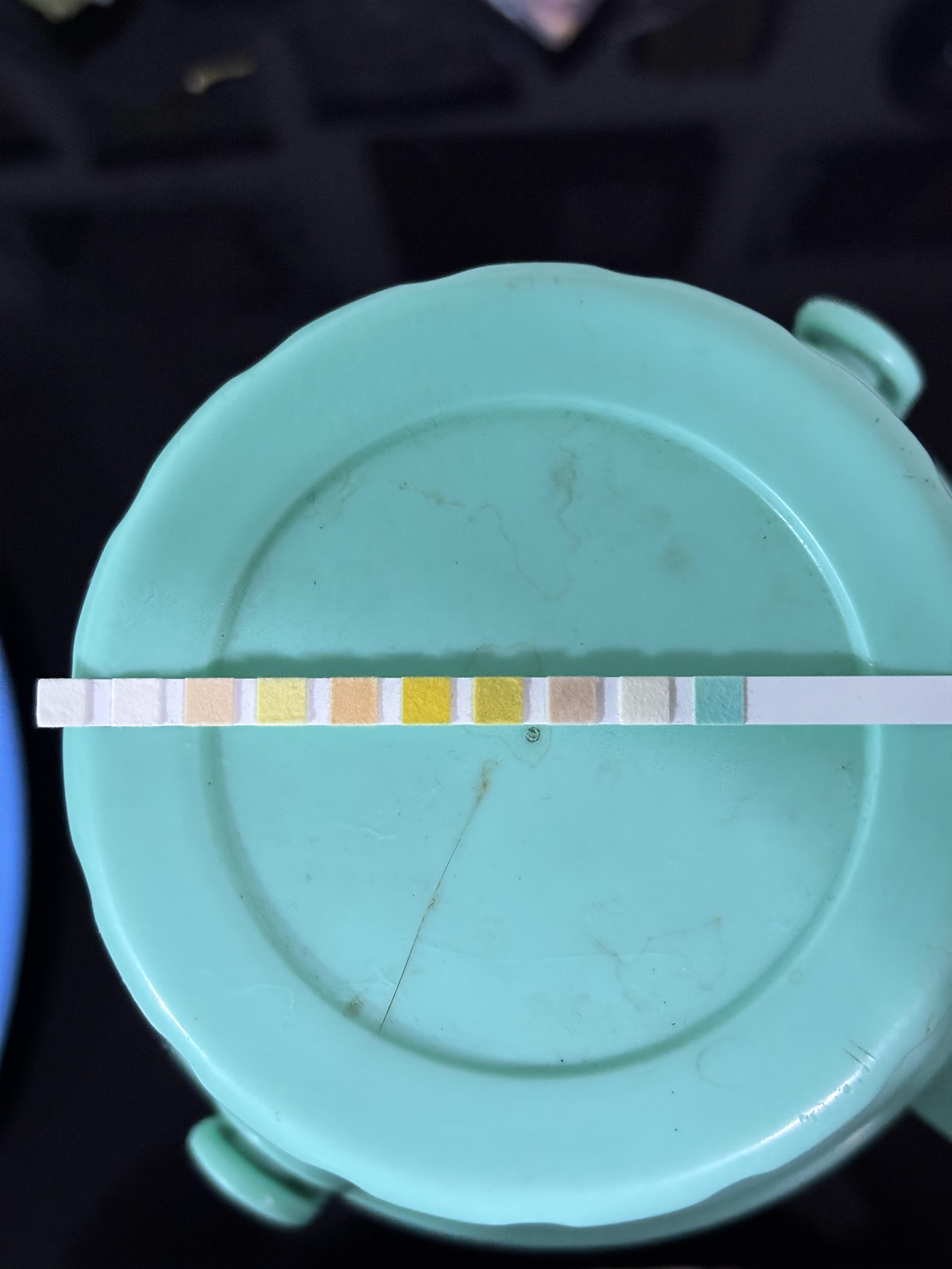Bilirubin: (623, 679, 669, 722)
Blood: (404, 679, 449, 722)
Glucose: (696, 678, 743, 724)
Ketone: (549, 678, 595, 723)
Leukocytes: (40, 681, 84, 725)
Nitrite: (114, 681, 158, 724)
Protein: (259, 680, 303, 721)
SpGravity: (476, 678, 521, 723)
Urobilinogen: (187, 679, 230, 724)
pH: (333, 679, 375, 723)
strip: (37, 676, 951, 727)
